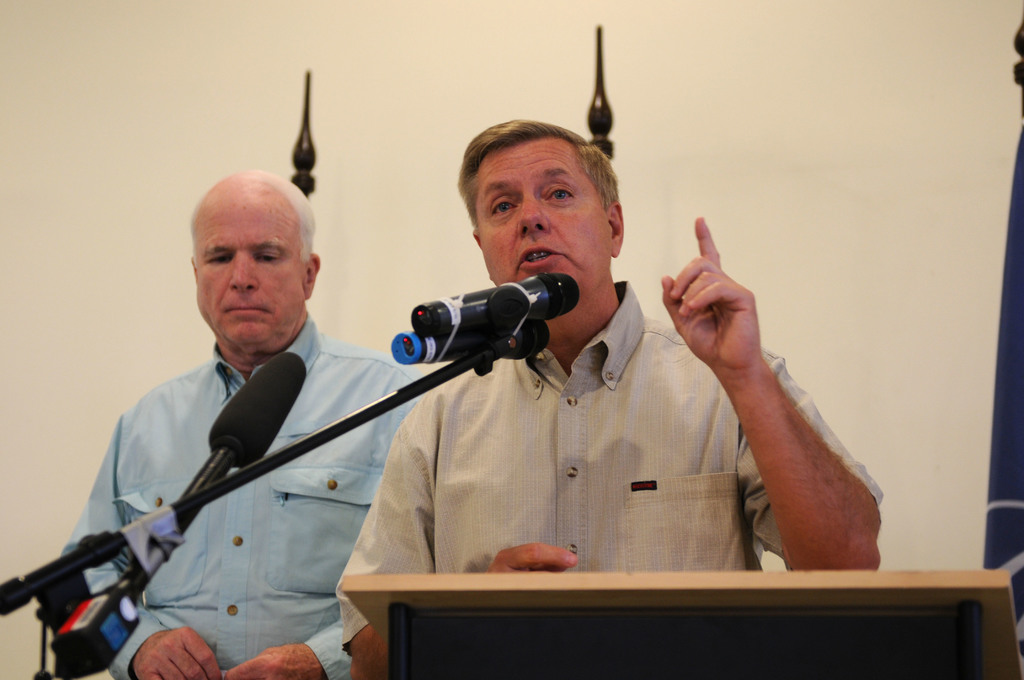Human-face: (476, 146, 605, 293), (195, 196, 307, 348)
